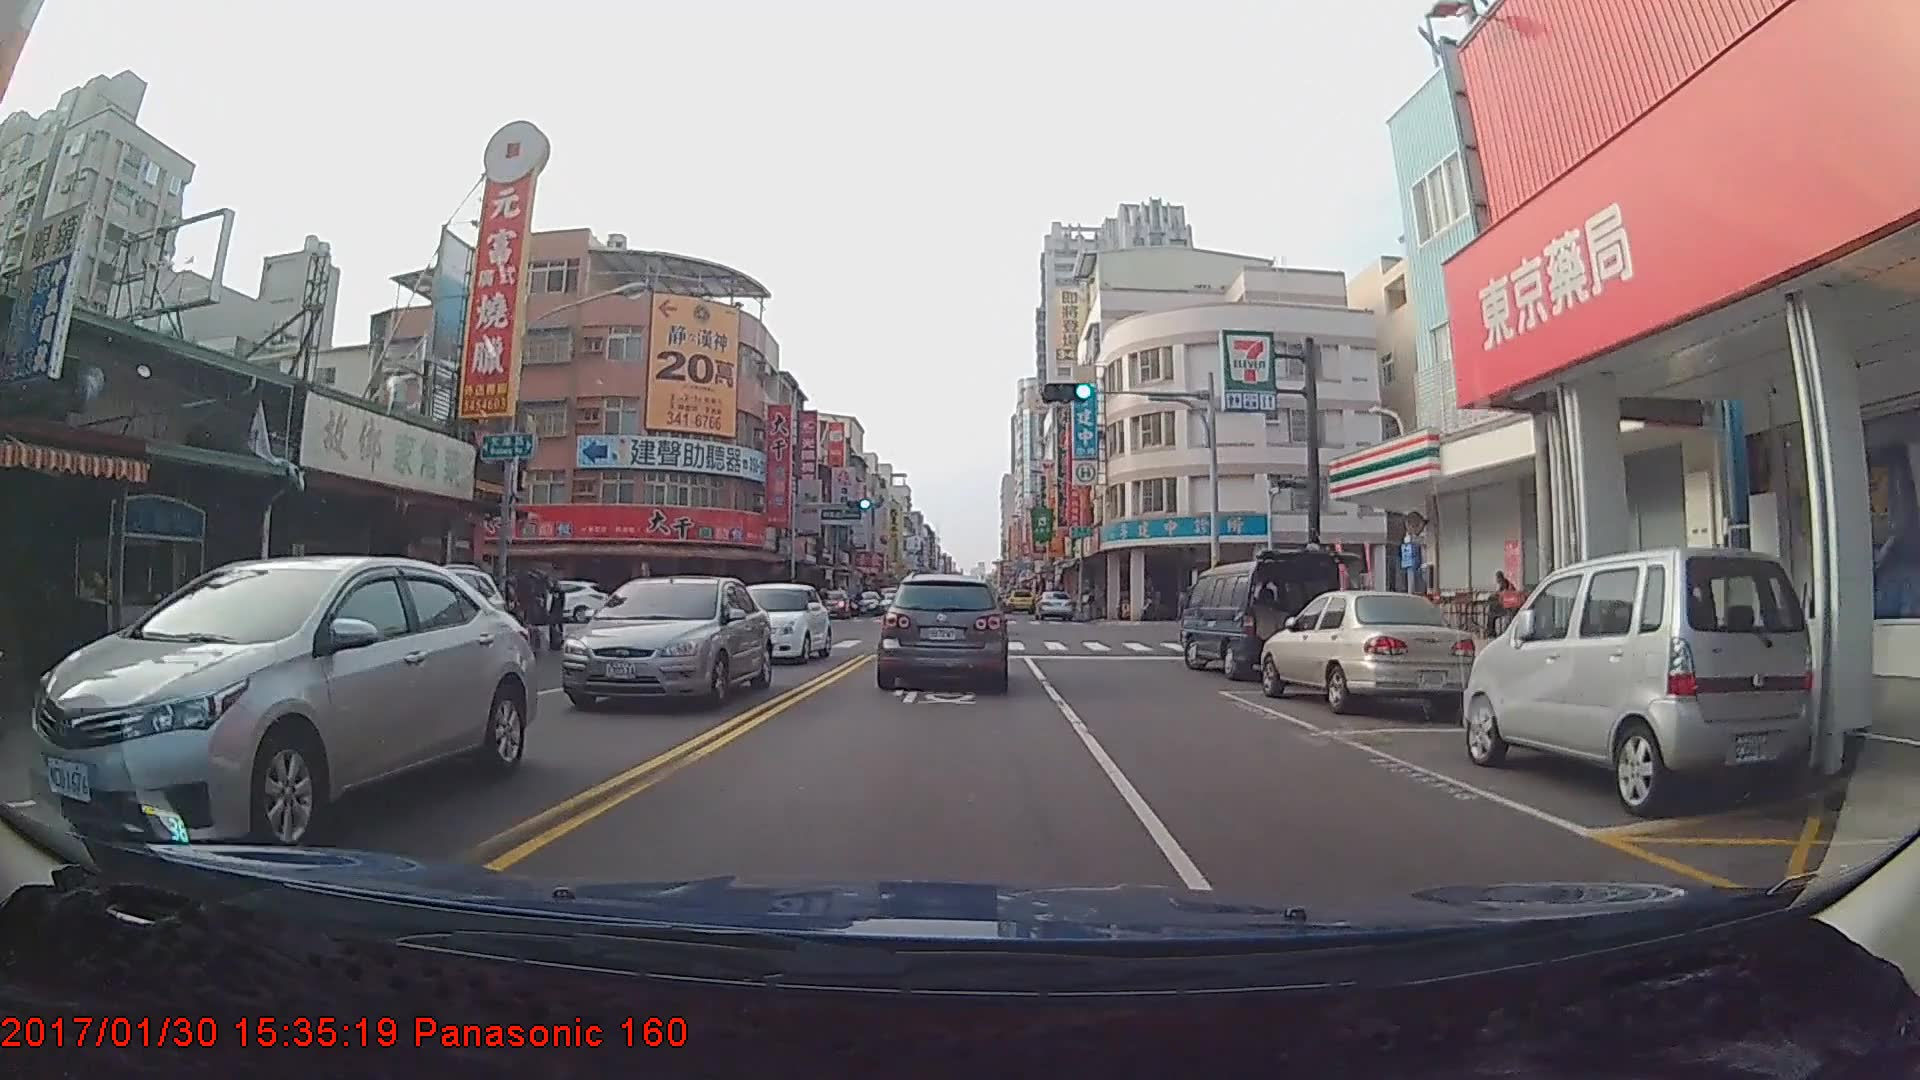vehicle: (28, 562, 535, 855), (1470, 543, 1809, 810), (564, 571, 769, 709), (1261, 589, 1472, 716), (1180, 563, 1335, 676), (880, 568, 1007, 694), (716, 582, 829, 666), (1034, 589, 1073, 622), (811, 585, 847, 620), (849, 593, 884, 617), (1006, 589, 1034, 612)
